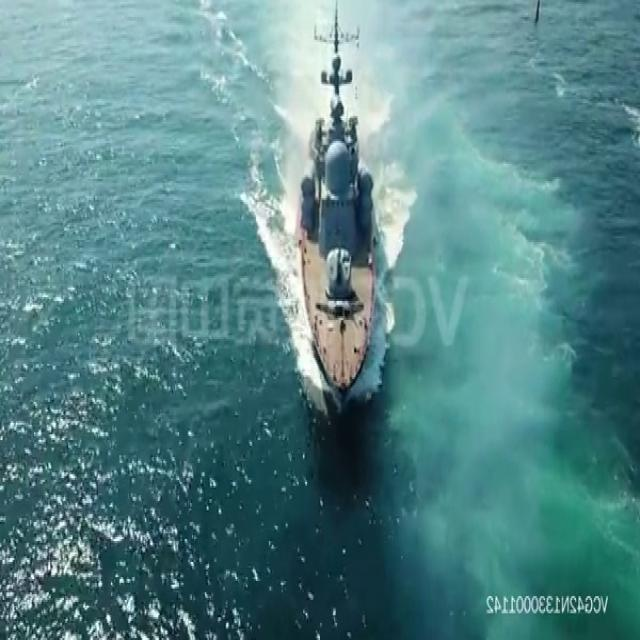navalvessels: (297, 9, 385, 388)
